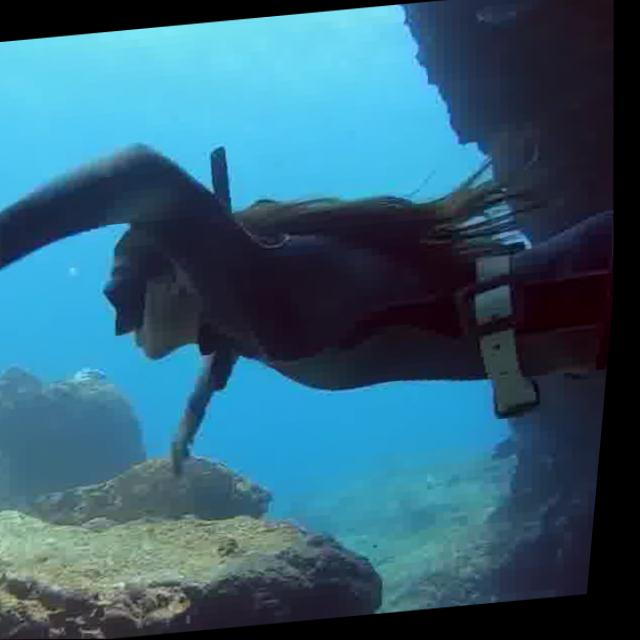human: (0, 92, 633, 492)
